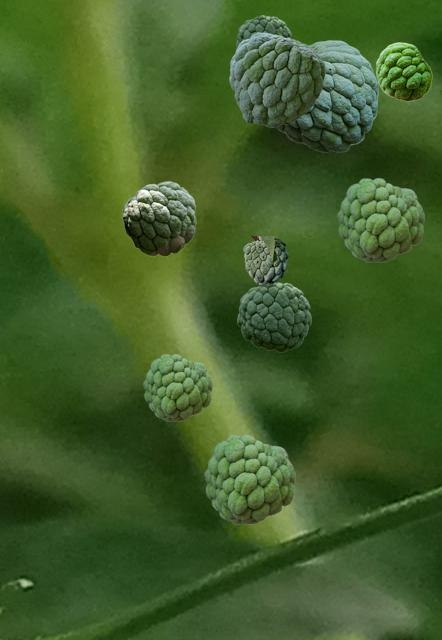atis: (276, 40, 377, 151), (229, 32, 324, 126), (204, 435, 294, 523), (337, 178, 423, 261), (122, 181, 195, 255), (237, 282, 310, 351), (143, 354, 211, 420), (243, 236, 311, 284), (376, 42, 431, 100), (236, 15, 291, 47)
